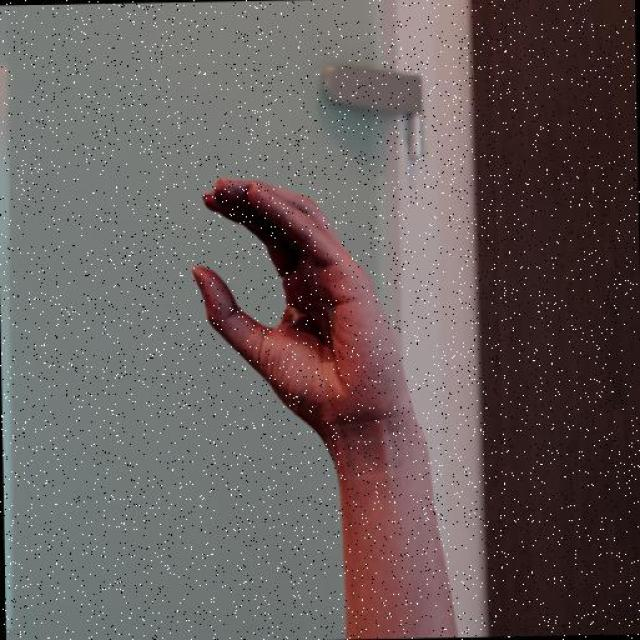C: (188, 168, 422, 452)
